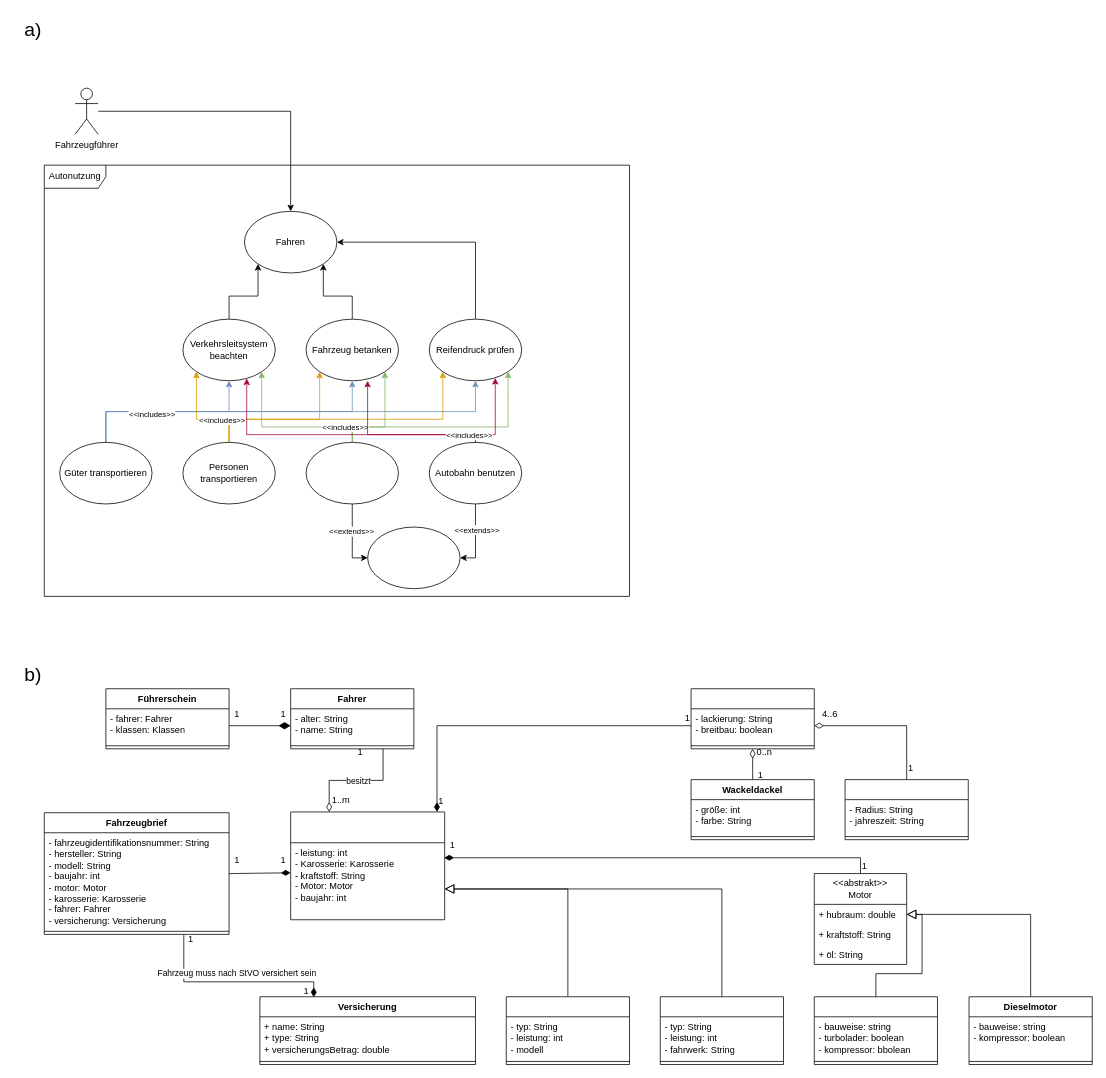
Image size: 1106x1078. Some labels were removed from this diagram. The shapes that lost their labels are listed below. From the top down, each one's box as (x1, y1, x2, y2) in pixels, then its label:
(305, 442, 398, 504): Landstraße benutzen
(367, 526, 460, 589): Geschwindigkeit anpassen
(690, 688, 814, 749): Karosserie
(844, 779, 968, 840): Räder
(290, 811, 445, 920): <<abstrakt>> Auto
(506, 996, 629, 1065): Porsche
(660, 996, 783, 1065): BMW
(814, 996, 937, 1065): Ottomotor
